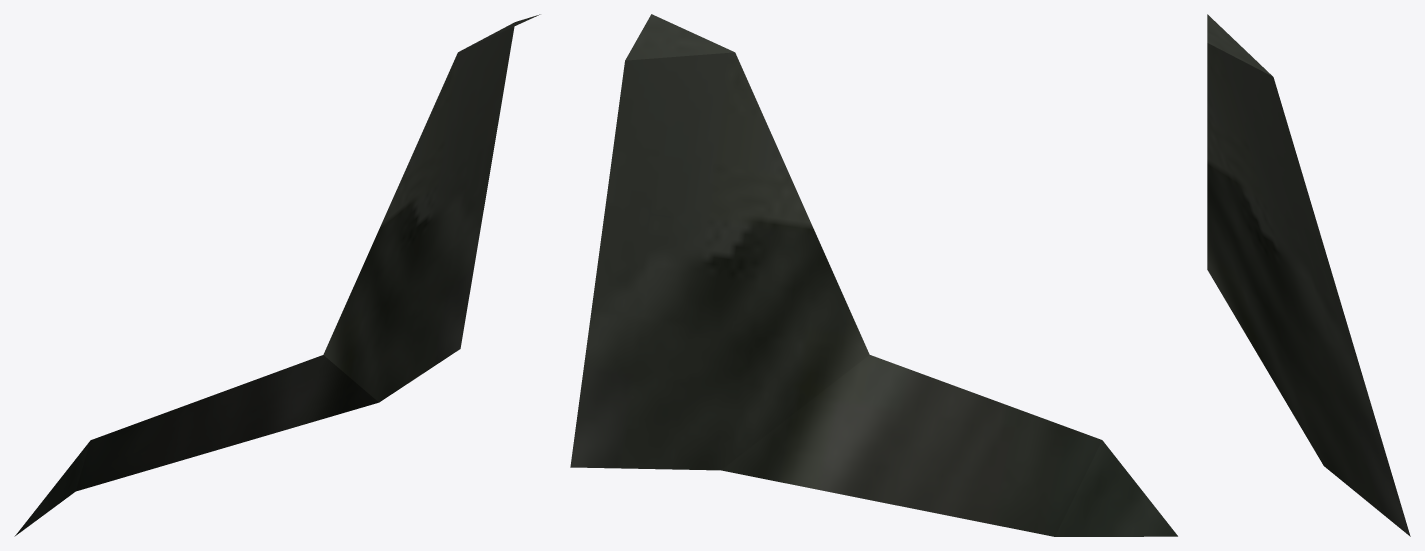
3 views of the same model, side by side, from view 1: azimuth 30°, elevation 25°; view 2: azimuth 150°, elevation 25°; view 3: azimuth 270°, elevation 25° (orthographic). The views are drawn at different scales.
Size of the model in its own units: 0.99 by 0.7074 by 0.2638.
Materials: 1 (1 with a texture image).
